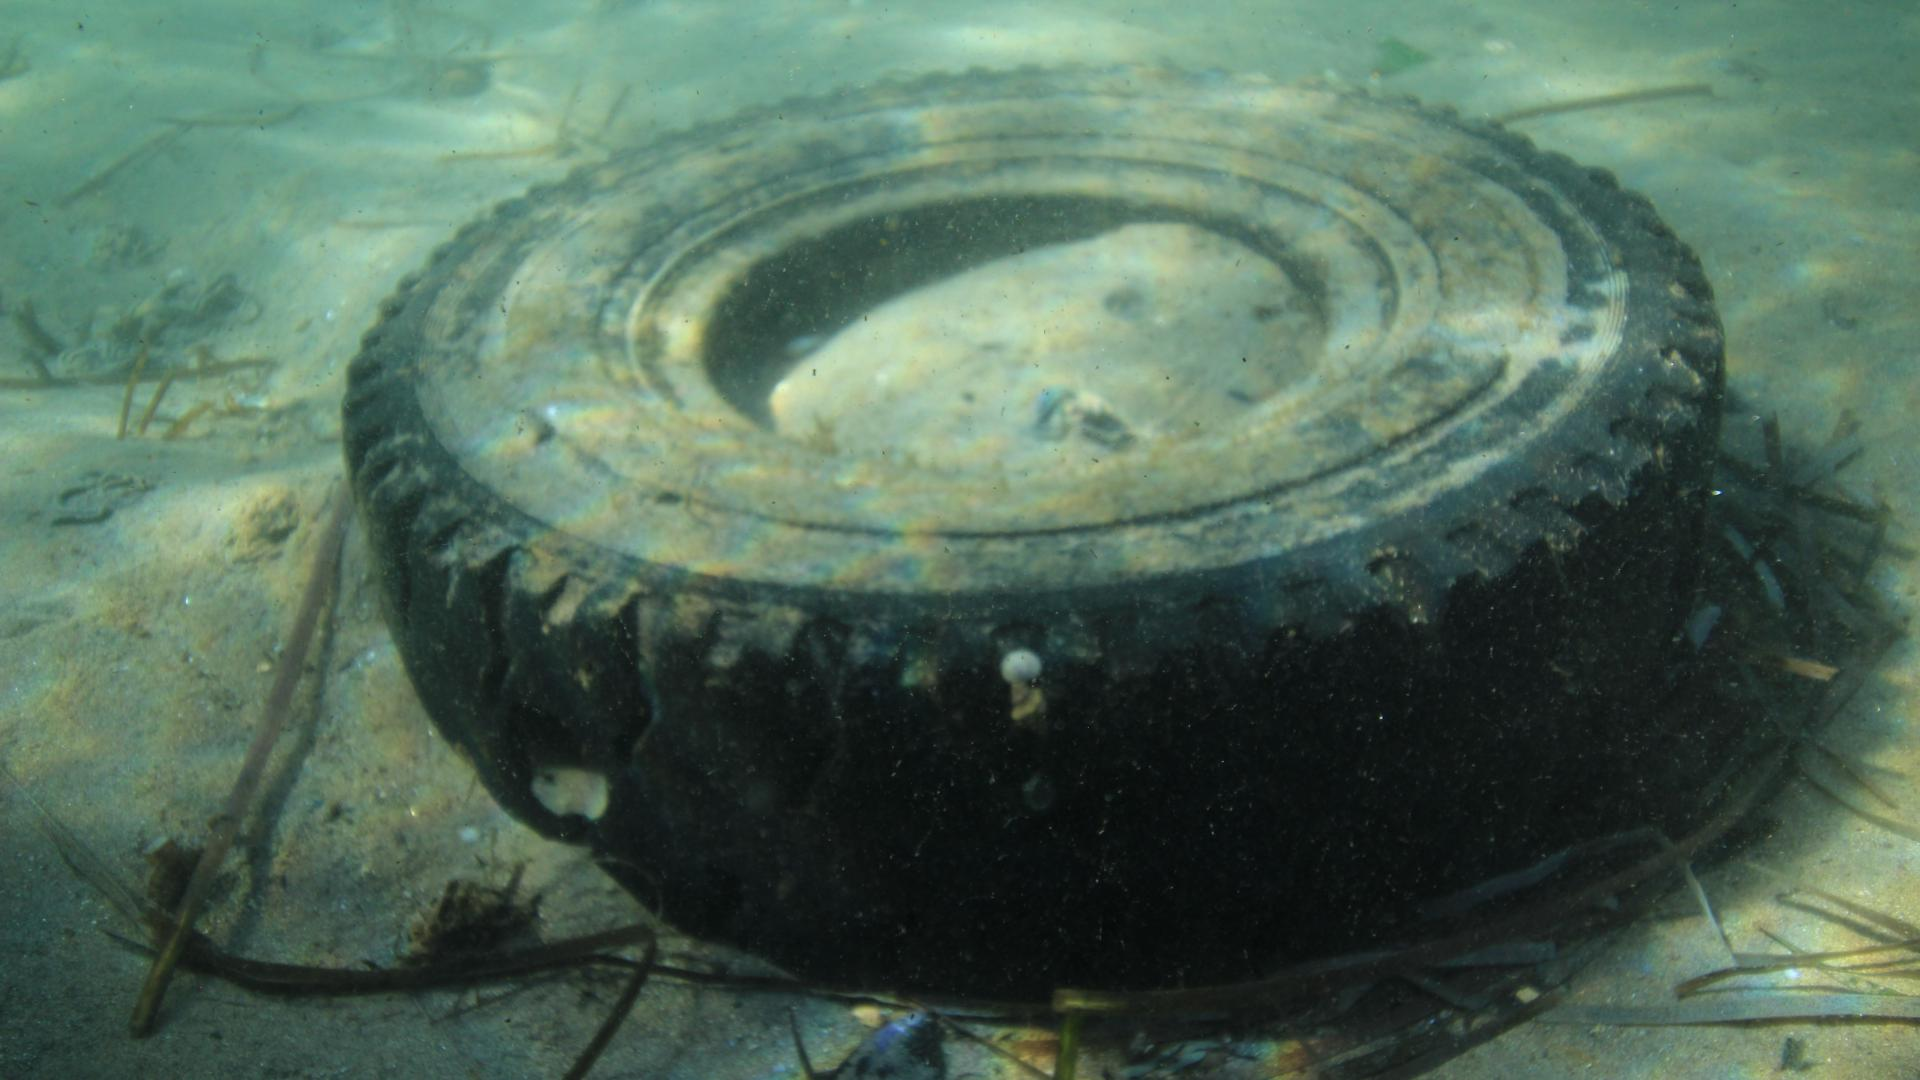tire: (338, 63, 1727, 1001)
